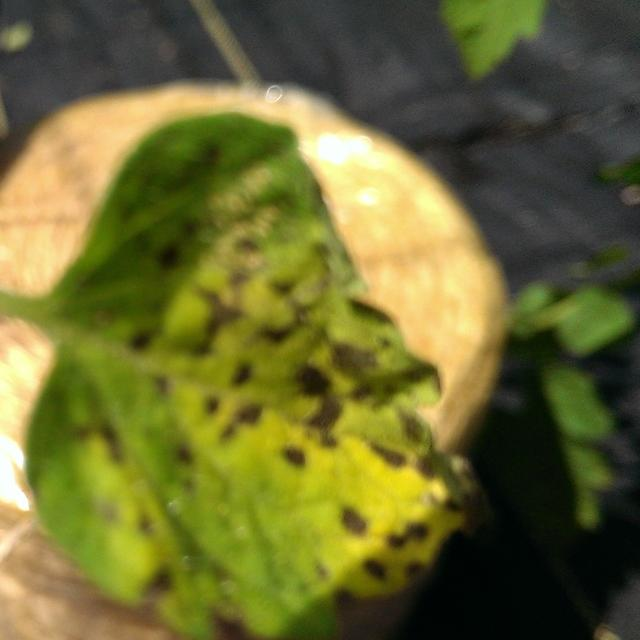Tomato Septoria leaf spot: (0, 102, 495, 640)
